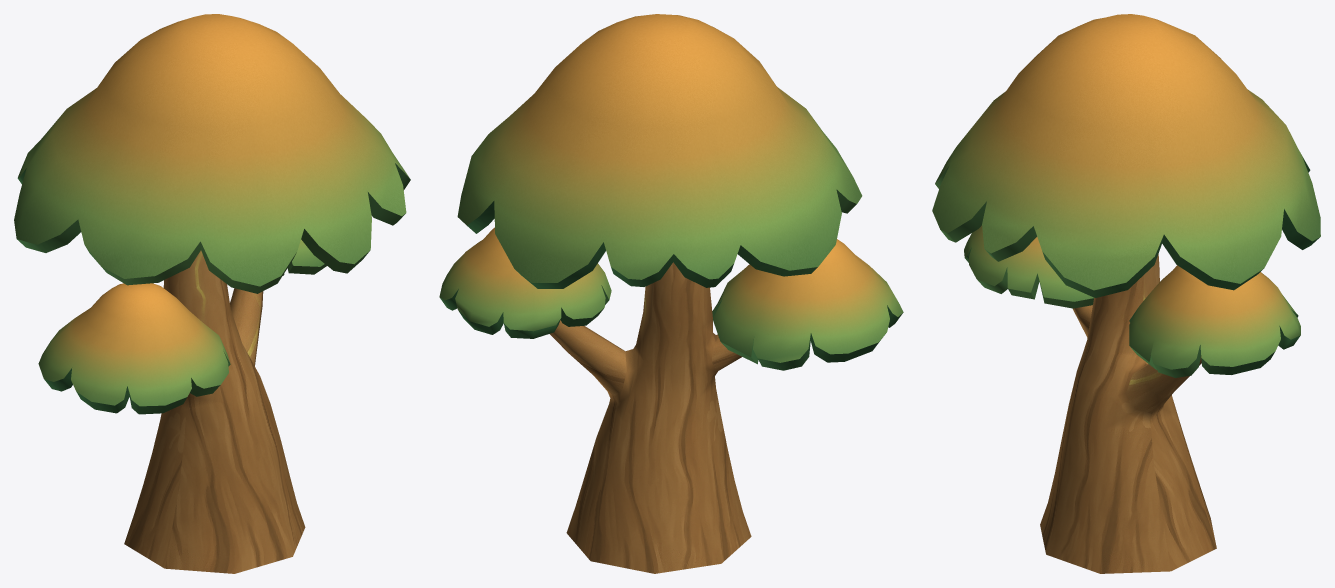
The model's file is Magical_Tree.fbx.
The picture shows the model from 3 angles, left to right: view 1: azimuth 30°, elevation 25°; view 2: azimuth 150°, elevation 25°; view 3: azimuth 270°, elevation 25°; orthographic projection.
Visible parts, largest first — view 1: Magical_Tree; view 2: Magical_Tree; view 3: Magical_Tree.
Boxes of the visible parts, box(x1,y1,x2,y2) form: Magical_Tree: box(14, 14, 410, 573); Magical_Tree: box(439, 14, 903, 573); Magical_Tree: box(932, 14, 1320, 573).
Size of the model in its own units: 74.29 by 98.27 by 67.76.
